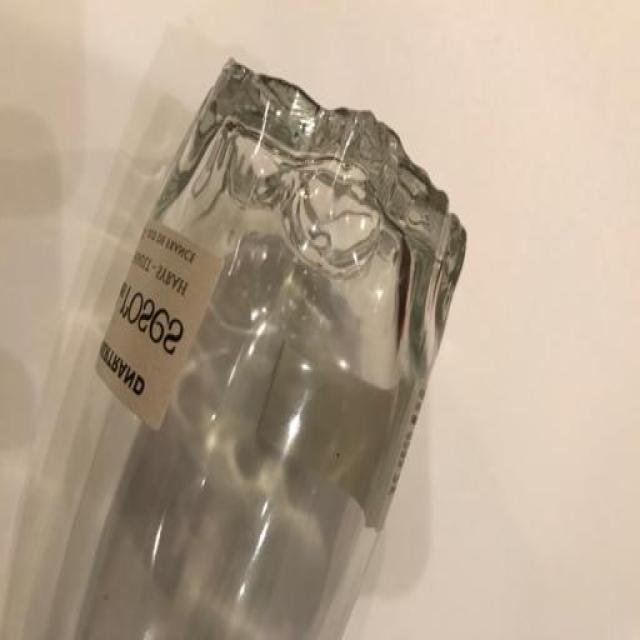glass: (42, 58, 466, 640)
